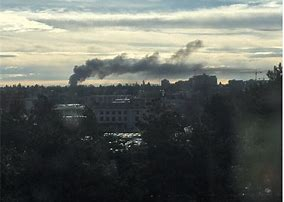smoke: (68, 46, 200, 83)
